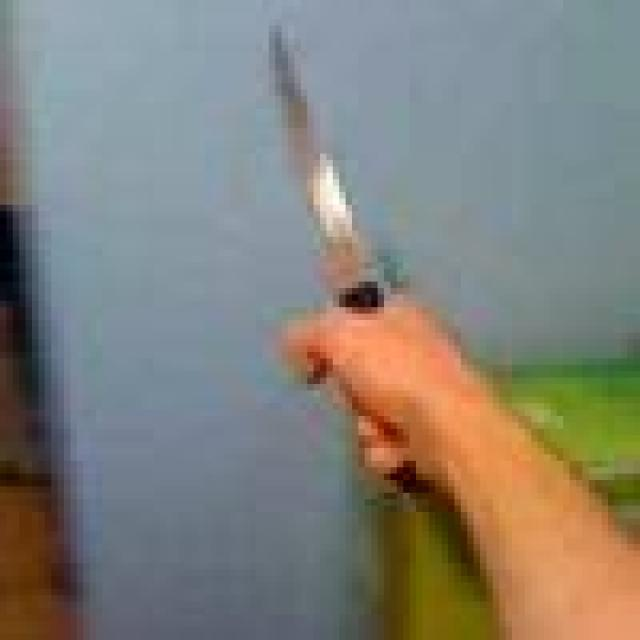Knife: (243, 19, 442, 499)
